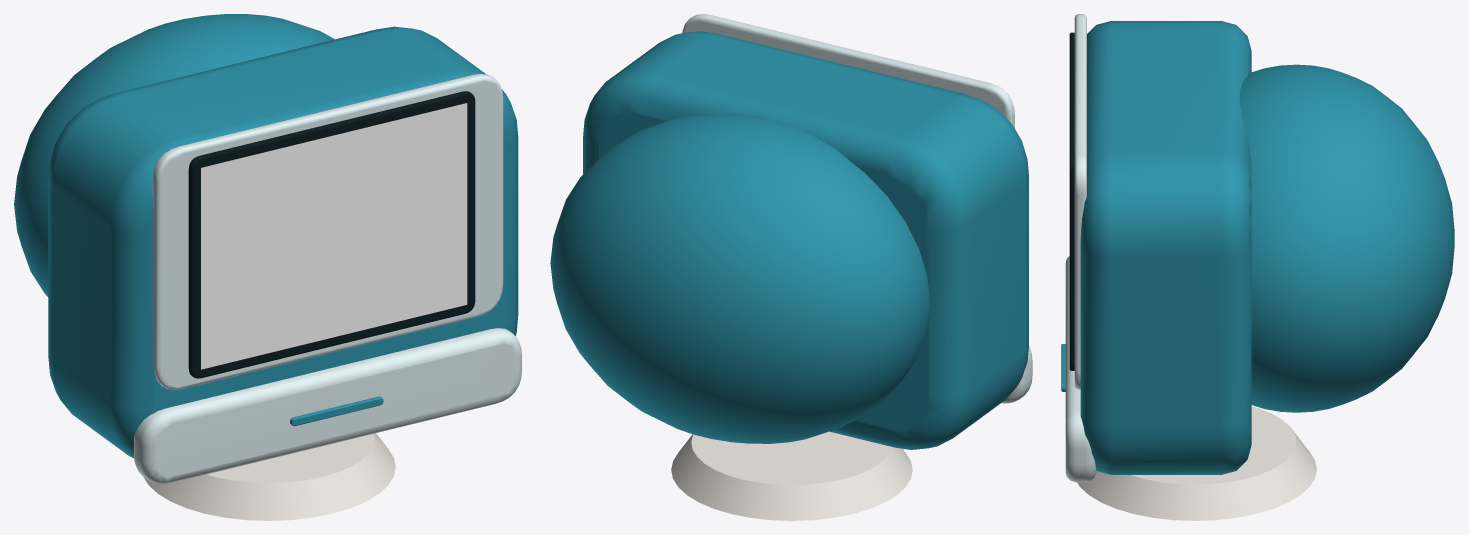
The model's file is imac.glb.
The picture shows the model from 3 angles, left to right: view 1: azimuth 30°, elevation 25°; view 2: azimuth 150°, elevation 25°; view 3: azimuth 270°, elevation 25°; orthographic projection. The views are drawn at different scales.
Visible parts, largest first — view 1: Bondi, Screen, Shell, Stand, Bezel; view 2: Bondi, Stand, Shell; view 3: Bondi, Stand, Shell, Bezel.
Part boxes in pixels (left/top/right/bottom): Bondi: left=14, top=14, right=518, bottom=458; Screen: left=201, top=103, right=467, bottom=369; Shell: left=134, top=74, right=521, bottom=484; Stand: left=143, top=433, right=395, bottom=520; Bezel: left=188, top=91, right=475, bottom=378; Bondi: left=550, top=31, right=1028, bottom=449; Stand: left=671, top=431, right=912, bottom=520; Shell: left=682, top=14, right=1032, bottom=403; Bondi: left=1061, top=21, right=1454, bottom=474; Stand: left=1077, top=406, right=1316, bottom=520; Shell: left=1065, top=14, right=1095, bottom=482; Bezel: left=1069, top=32, right=1074, bottom=370.
Bounding box in the file's own units: 0.44 × 0.415 × 0.3861.
